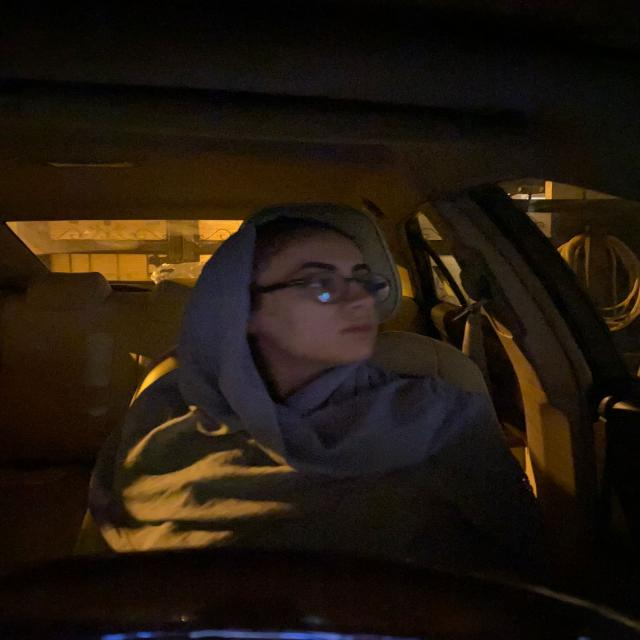LeftRight: (198, 199, 410, 395)
